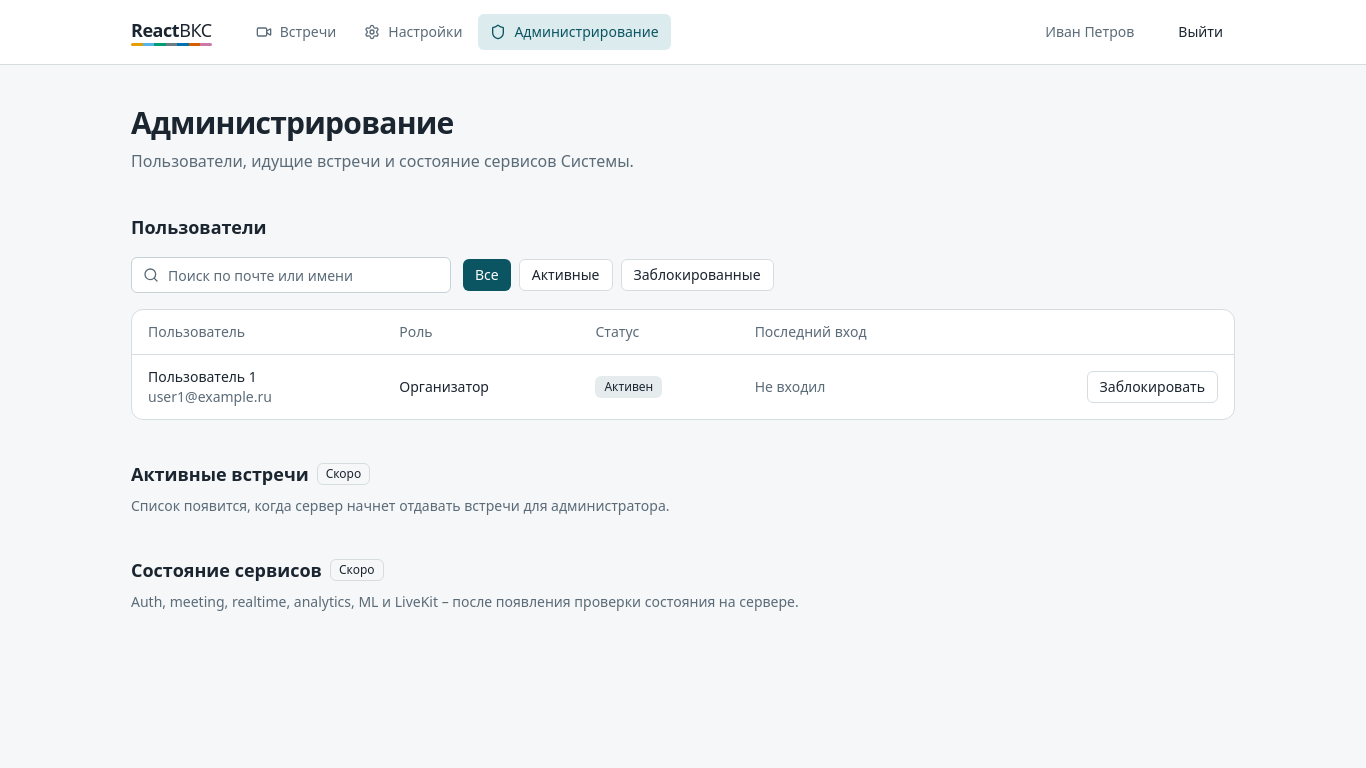
Test: админка: пользователи (режим http) › блокировка: подтверждение, PATCH, список обновляется
The image size is (1366, 768).
Step 1. Click the button with aria-label "Заблокировать: Пользователь 1" → (1152, 387), box left=1087, top=371, right=1218, bottom=403
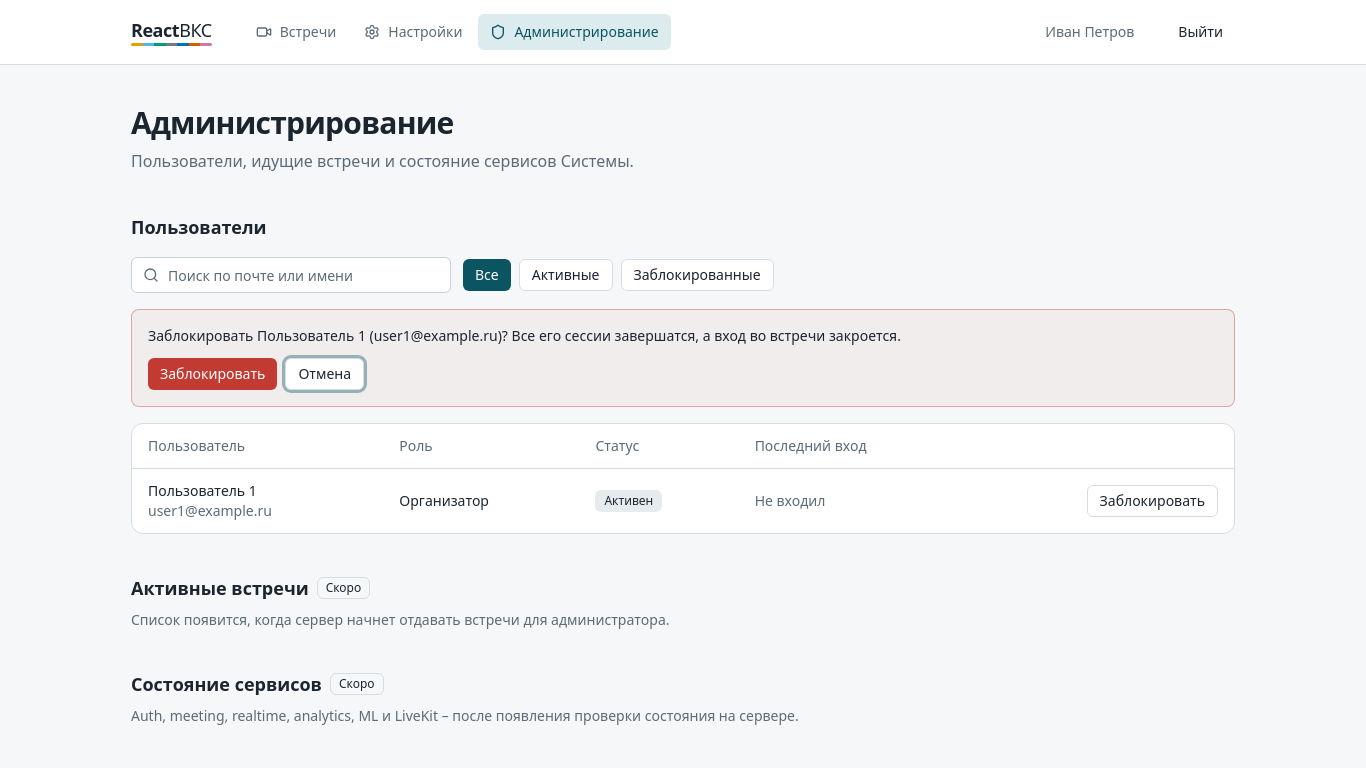
Expected: the dialog shows "Заблокировать Пользователь 1", left=148, top=326, right=901, bottom=345
Step 2. Click the 1st button "Заблокировать" → (213, 374), box left=148, top=358, right=277, bottom=390
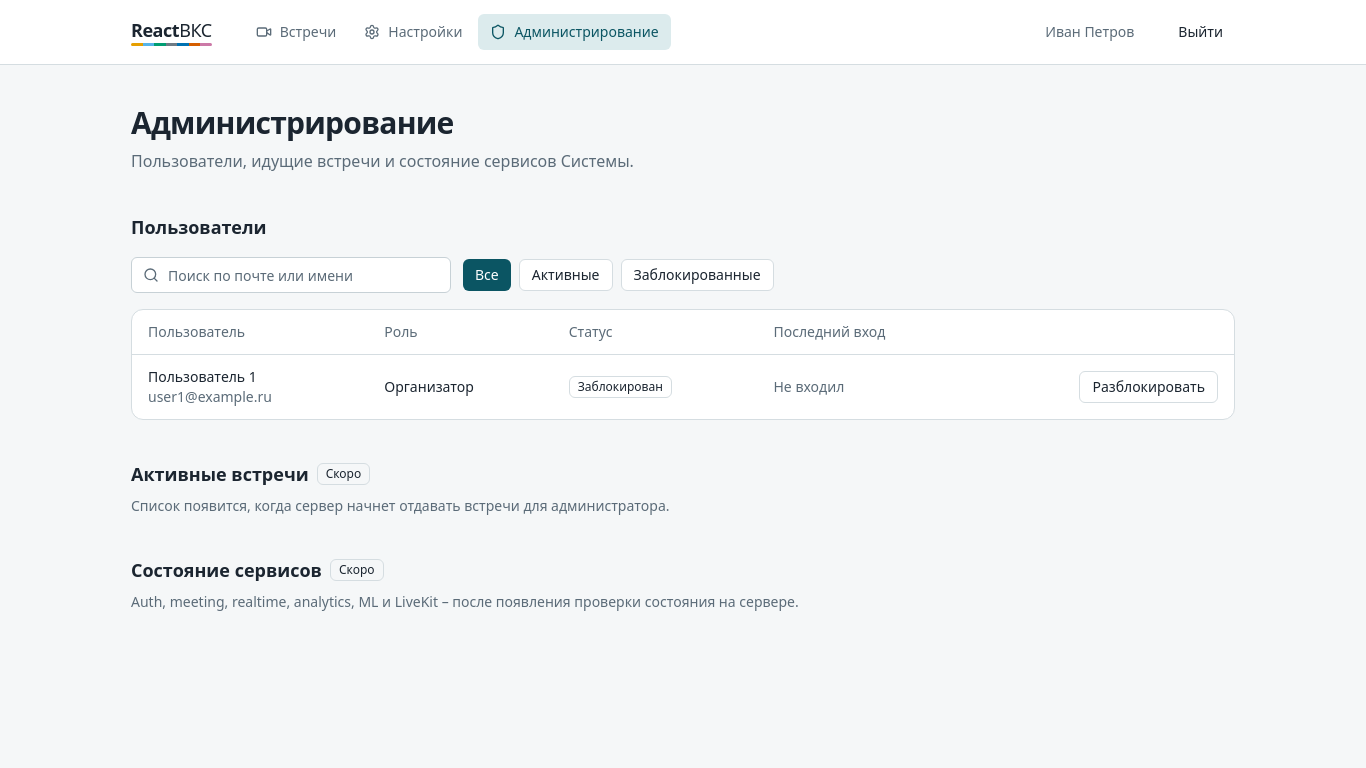
Expected: the text "Заблокирован" is shown, left=569, top=376, right=672, bottom=398
Expected: the dialog is gone
